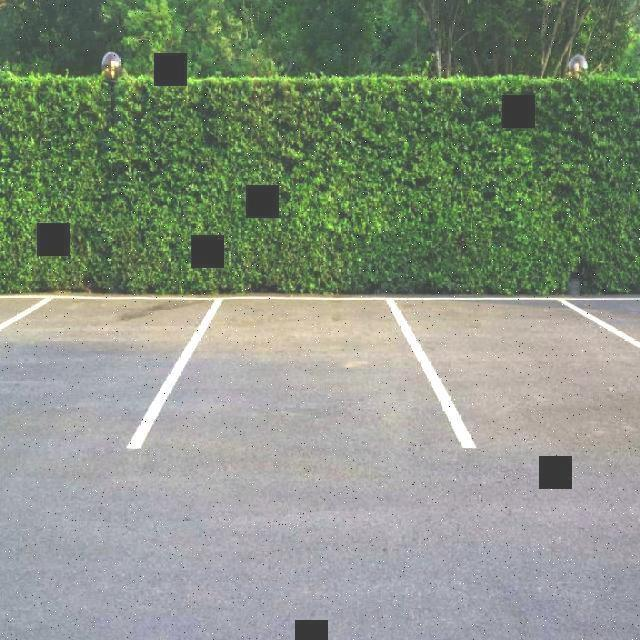empty: (112, 293, 485, 454), (383, 271, 640, 469), (0, 284, 228, 466)
